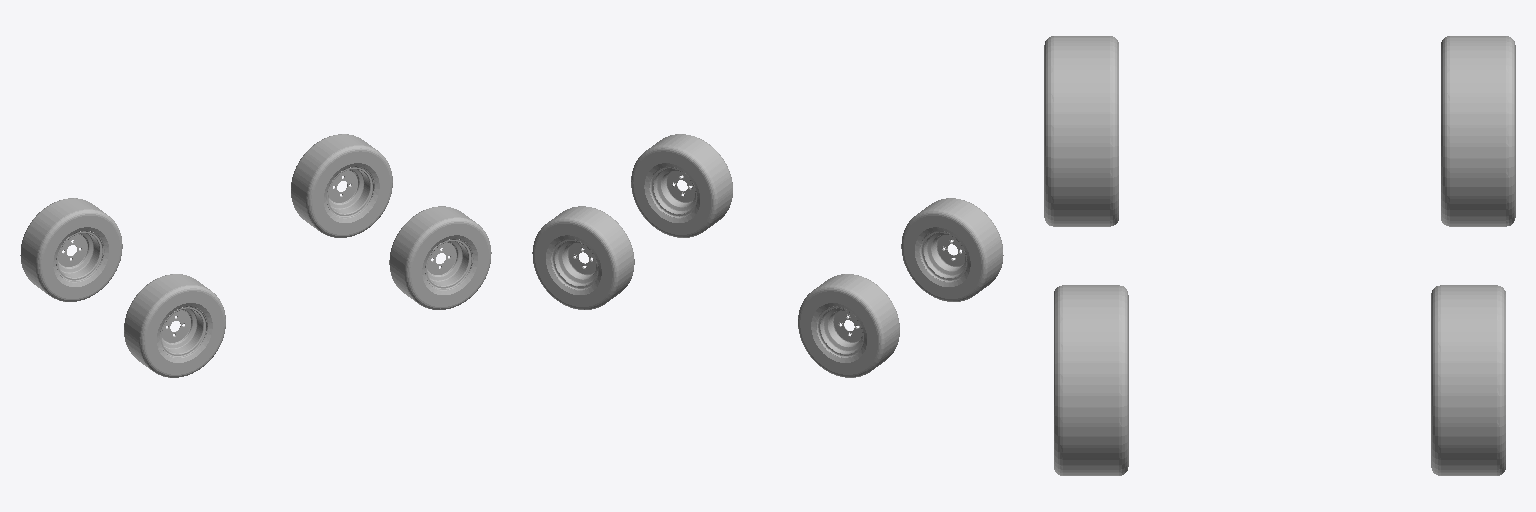
robot.urdf — hazir:
<?xml version="1.0" encoding="utf-8"?>
<!--
This URDF was automatically created by SolidWorks to URDF Exporter! Originally created by [author] ([email redacted])
Commit Version: 1.6.0-4-g7f85cfe  Build Version: 1.6.7995.38578
For more information, please see http://wiki.ros.org/sw_urdf_exporter
-->
<robot name="hazir">

	<link name="base_footprint" />

	<link name="base_link">
		<inertial>
			<origin xyz="-0.053121 0.001089 0.17871" rpy="0 0 0" />
			<mass value="77.764" />
			<inertia ixx="7.9281" ixy="0.022844" ixz="0.16982" iyy="4.4347" iyz="0.0099095" izz="10.26" />
		</inertial>
		<visual>
			<origin xyz="0 0 0" rpy="0 0 0" />
			<geometry>
				<mesh filename="package://hazir/meshes/base_link2.STL" />
			</geometry>
			<material name="">
				<color rgba="0.75294 0.75294 0.75294 1" />
			</material>
		</visual>
		<collision>
			<origin xyz="0 0 0" rpy="0 0 0" />
			<geometry>
				<mesh filename="package://hazir/meshes/base_link2.STL" />
			</geometry>
		</collision>
	</link>
	<joint name="base_link_joint" type="continuous">
		<origin xyz="0.053121 -0.001089 -0.17871" rpy="0 0 0" />
		<parent link="base_footprint" />
		<child link="base_link" />
		<axis xyz="0 0 1" />
	</joint>

	<link name="sag_on">
		<inertial>
			<origin xyz="1.2745E-05 -0.0030415 1.7258E-05" rpy="0 0 0" />
			<mass value="6.5048" />
			<inertia ixx="0.18807" ixy="-6.9648E-08" ixz="-7.3865E-07" iyy="0.30704" iyz="1.7344E-08" izz="0.18807" />
		</inertial>
		<visual>
			<origin xyz="0 0 0" rpy="0 0 0" />
			<geometry>
				<mesh filename="package://hazir/meshes/tekerlers3.dae" scale="0.005 0.005 0.005" />
			</geometry>
			<material name="">
				<color rgba="0.75294 0.75294 0.75294 1" />
			</material>
		</visual>
		<collision>
			<origin xyz="0 0 0" rpy="0 0 0" />
			<geometry>
				<mesh filename="package://hazir/meshes/tekerlers3.dae" scale="0.005 0.005 0.005" />
			</geometry>
		</collision>
	</link>
	<joint name="sag_on_joint" type="continuous">
		<origin xyz="0.95877 -0.51338 -0.53265" rpy="0 0 0" />
		<parent link="base_link" />
		<child link="sag_on" />
		<axis xyz="0 0 1" />
	</joint>

	<link name="sag_arka">
		<inertial>
			<origin xyz="-1.3366E-05 -0.0030415 -1.678E-05" rpy="0 0 0" />
			<mass value="6.5048" />
			<inertia ixx="0.18807" ixy="-3.2501E-08" ixz="-8.1749E-07" iyy="0.30704" iyz="-1.096E-08" izz="0.18807" />
		</inertial>
		<visual>
			<origin xyz="0 0 0" rpy="0 0 0" />
			<geometry>
				<mesh filename="package://hazir/meshes/tekerlers3.dae" scale="0.005 0.005 0.005" />
			</geometry>
			<material name="">
				<color rgba="0.75294 0.75294 0.75294 1" />
			</material>
		</visual>
		<collision>
			<origin xyz="0 0 0" rpy="0 0 0" />
			<geometry>
				<mesh filename="package://hazir/meshes/tekerlers3.dae" scale="0.005 0.005 0.005" />
			</geometry>
		</collision>
	</link>
	<joint name="sag_arka_joint" type="continuous">
		<origin xyz="-0.64123 -0.53838 -0.53564" rpy="0 0 0" />
		<parent link="base_link" />
		<child link="sag_arka" />
		<axis xyz="0 0 1" />
	</joint>

	<link name="sol_on">
		<inertial>
			<origin xyz="-1.1358E-05 0.0030415 1.8202E-05" rpy="0 0 0" />
			<mass value="6.5048" />
			<inertia ixx="0.18807" ixy="-7.043E-08" ixz="3.8237E-07" iyy="0.30704" iyz="-7.9651E-09" izz="0.18807" />
		</inertial>
		<visual>
			<origin xyz="0 0 0" rpy="0 0 0" />
			<geometry>
				<mesh filename="package://hazir/meshes/tekerlers3.dae" scale="0.005 0.005 0.005"/>
			</geometry>
			<material name="">
				<color rgba="0.75294 0.75294 0.75294 1" />
			</material>
		</visual>
		<collision>
			<origin xyz="0 0 0" rpy="0 0 0" />
			<geometry>
				<mesh filename="package://hazir/meshes/tekerlers3.dae" scale="0.005 0.005 0.005"/>
			</geometry>
		</collision>
	</link>
	<joint name="sol_on_joint" type="continuous">
		<origin xyz="0.95877 0.50662 -0.53265" rpy="0 0 0" />
		<parent link="base_link" />
		<child link="sol_on" />
		<axis xyz="0 0 1" />
	</joint>

	<link name="sol_arka">
		<inertial>
			<origin xyz="6.677E-08 0.0030376 2.7557E-07" rpy="0 0 0" />
			<mass value="6.5051" />
			<inertia ixx="0.18807" ixy="-7.1377E-08" ixz="2.12E-07" iyy="0.30704" iyz="-7.5405E-09" izz="0.18807" />
		</inertial>
		<visual>
			<origin xyz="0 0 0" rpy="0 0 0" />
			<geometry>
				<mesh filename="package://hazir/meshes/tekerlers3.dae" scale="0.005 0.005 0.005"/>
			</geometry>
			<material name="">
				<color rgba="0.75294 0.75294 0.75294 1" />
			</material>
		</visual>
		<collision>
			<origin xyz="0 0 0" rpy="0 0 0" />
			<geometry>
				<mesh filename="package://hazir/meshes/tekerlers3.dae" scale="0.005 0.005 0.005"/>
			</geometry>
		</collision>
	</link>
	<joint name="sol_arka_joint" type="continuous">
		<origin xyz="-0.64123 0.53212 -0.53564" rpy="0 0 0" />
		<parent link="base_link" />
		<child link="sol_arka" />
		<axis xyz="0 0 1" />
	</joint>

</robot>

--- Facts derived from the render (not from the file) ---
Views: 3 orthographic renders of the robot side by side, from view 1: azimuth 30°, elevation 25°; view 2: azimuth 150°, elevation 25°; view 3: azimuth 270°, elevation 25°.
Robot: hazir — 6 links, 5 joints (5 continuous); root link base_footprint; default pose: every joint at zero.
Visible links, largest first — view 1: sol_on, sag_arka, sol_arka, sag_on; view 2: sag_arka, sol_on, sol_arka, sag_on; view 3: sol_on, sag_arka, sol_arka, sag_on.
Boxes of the visible links, left/top/right/bottom form: sol_on: left=291, top=134, right=392, bottom=237; sag_arka: left=124, top=274, right=225, bottom=377; sol_arka: left=20, top=198, right=122, bottom=301; sag_on: left=389, top=206, right=491, bottom=309; sag_arka: left=901, top=198, right=1003, bottom=301; sol_on: left=532, top=206, right=634, bottom=309; sol_arka: left=798, top=274, right=899, bottom=377; sag_on: left=631, top=134, right=732, bottom=237; sol_on: left=1431, top=285, right=1505, bottom=475; sag_arka: left=1044, top=36, right=1118, bottom=226; sol_arka: left=1441, top=36, right=1515, bottom=226; sag_on: left=1054, top=285, right=1128, bottom=475.
Size in the robot's own frame: 2.11 by 1.27 by 0.5179 metres.
4 mesh visuals loaded from 2 distinct referenced files (1 Collada DAE); not drawn: 1 (reference not matched to a file when rendering).
